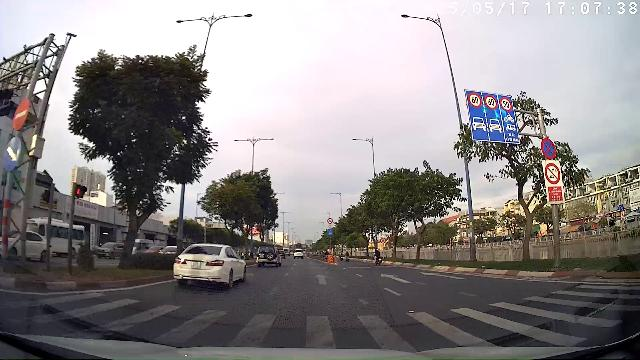102-cam-di-nguoc-chieu: (13, 97, 30, 131)
127-toc-do-toi-da-50: (500, 97, 513, 112)
127-toc-do-toi-da-60: (468, 93, 482, 109), (484, 94, 498, 110)
130-cam-dung-va-do-xe: (540, 138, 557, 159)
302a-huong-phai-di-vong-chuong-ngai-vat-1: (3, 136, 22, 171)
